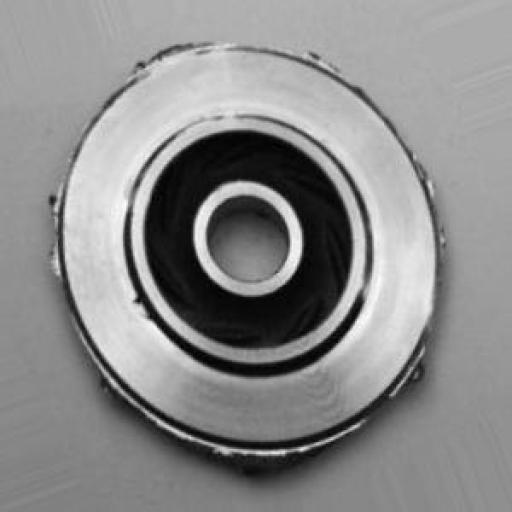defect: (34, 27, 466, 463)
